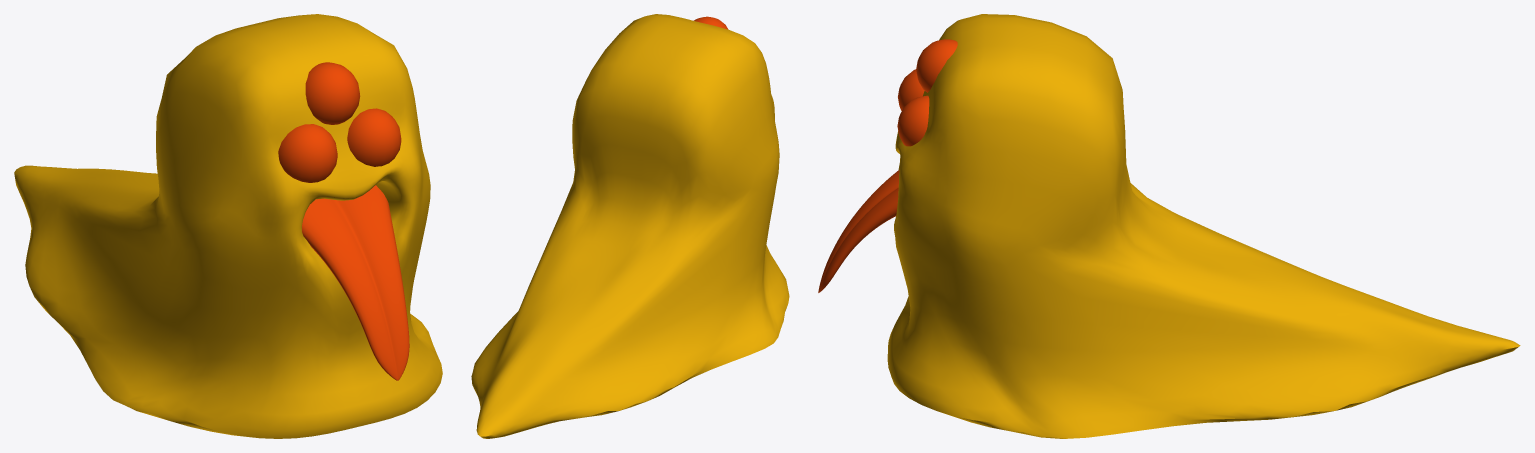
File: GR_monster12.fbx
3 views of the same model, side by side, from view 1: azimuth 30°, elevation 25°; view 2: azimuth 150°, elevation 25°; view 3: azimuth 270°, elevation 25° (orthographic). The views are drawn at different scales.
Parts seen in each view (by area): view 1: tong; view 2: tong; view 3: tong.
Boxes of the visible parts, x1,y1,x2,y2 form: tong: (14, 14, 442, 438); tong: (471, 14, 789, 438); tong: (818, 14, 1520, 438).
Bounding box in the file's own units: 101 × 111 × 210.
